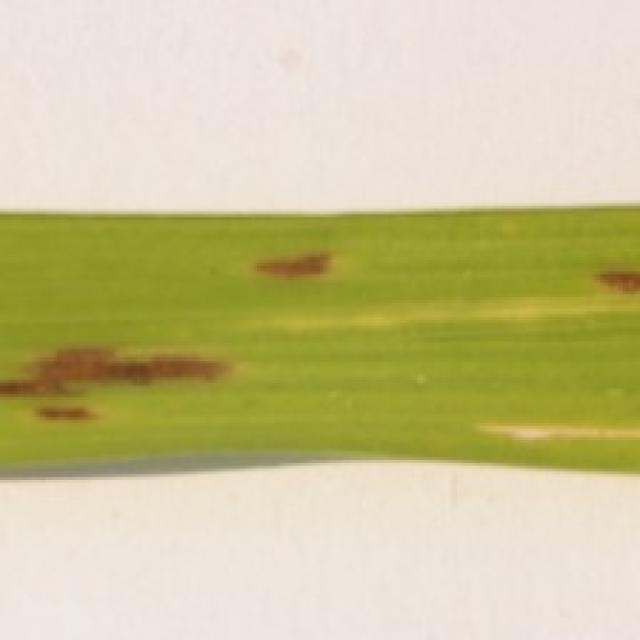Rice___Brown_Spot: (2, 204, 637, 474)
